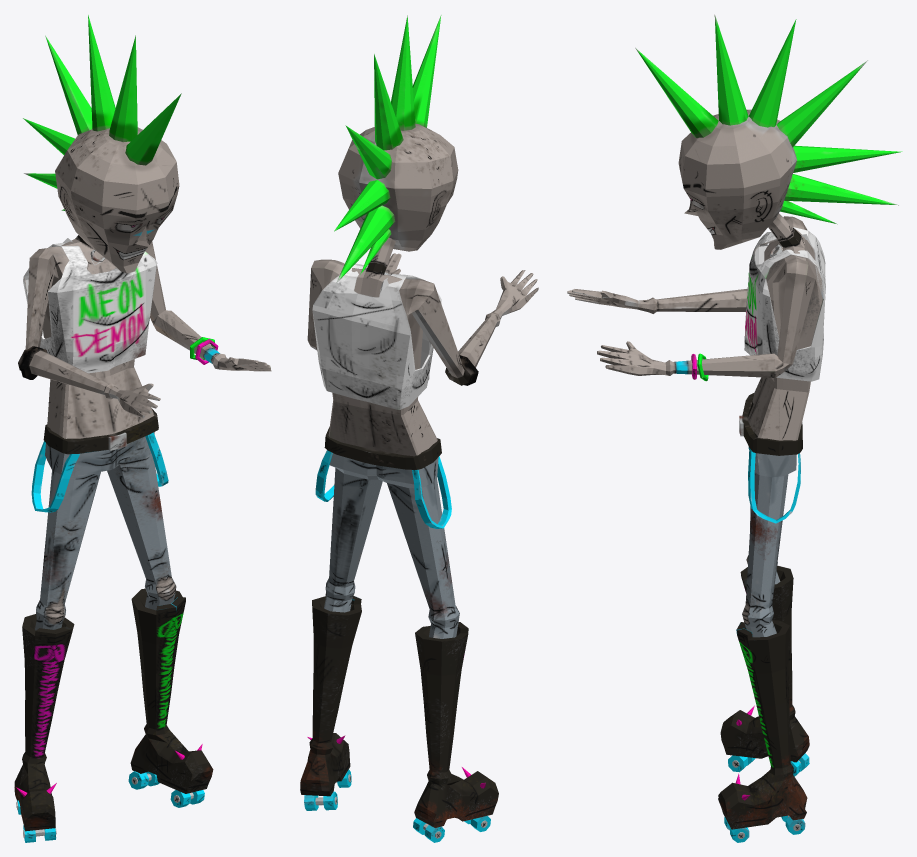
File: punkAnimation_000027.obj
The picture shows the model from 3 angles, left to right: view 1: azimuth 30°, elevation 25°; view 2: azimuth 150°, elevation 25°; view 3: azimuth 270°, elevation 25°; orthographic projection.
Visible parts, largest first — view 1: Cube.004_Cube.003; view 2: Cube.004_Cube.003; view 3: Cube.004_Cube.003.
Boxes of the visible parts, left/top/right/bottom form: Cube.004_Cube.003: left=14, top=15, right=271, bottom=842; Cube.004_Cube.003: left=300, top=15, right=538, bottom=842; Cube.004_Cube.003: left=567, top=14, right=902, bottom=842.
Size of the model in its own units: 1.86 by 7.56 by 2.9.
